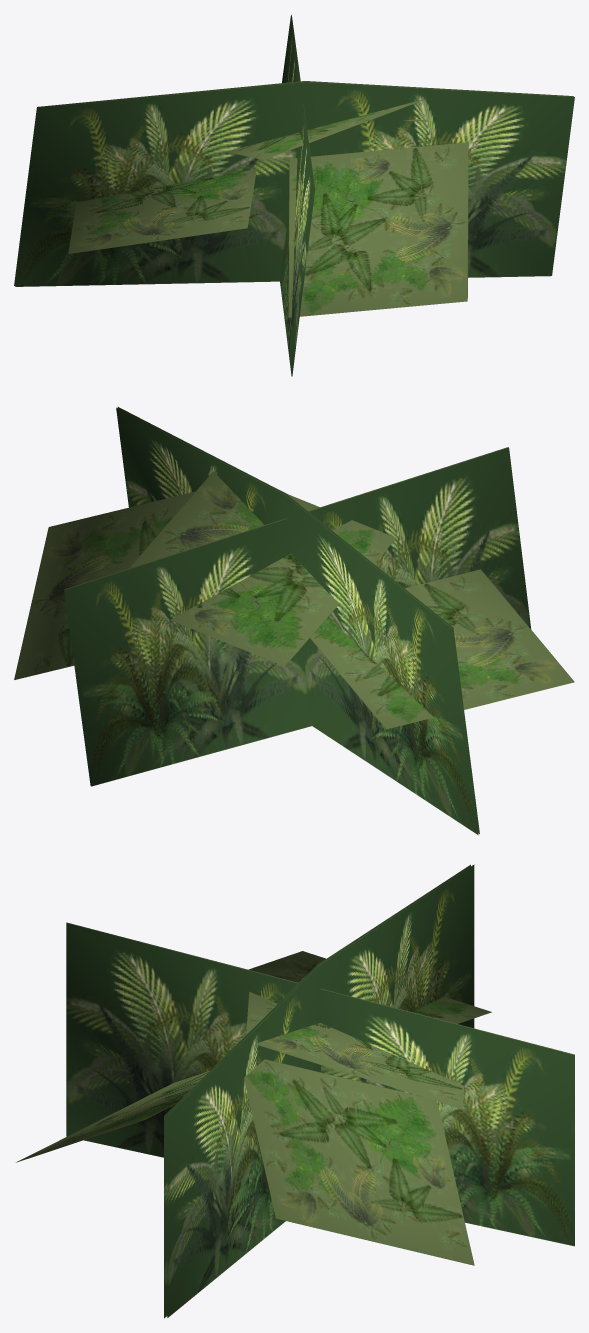
The model's file is ptch_endr_frst_cluster_l2.fbx.
3 renders of one model, top to bottom at view 1: azimuth 30°, elevation 25°; view 2: azimuth 150°, elevation 25°; view 3: azimuth 270°, elevation 25°, orthographic. The views are drawn at different scales.
Visible parts, largest first — view 1: mesh_node; view 2: mesh_node; view 3: mesh_node.
Part boxes in pixels (x1,y1,x2,y2): mesh_node: (14,15,574,376); mesh_node: (14,407,574,835); mesh_node: (16,864,574,1318).
Bounding box in the file's own units: 5.48 × 2.18 × 4.58.
1 material, 1 textured.
